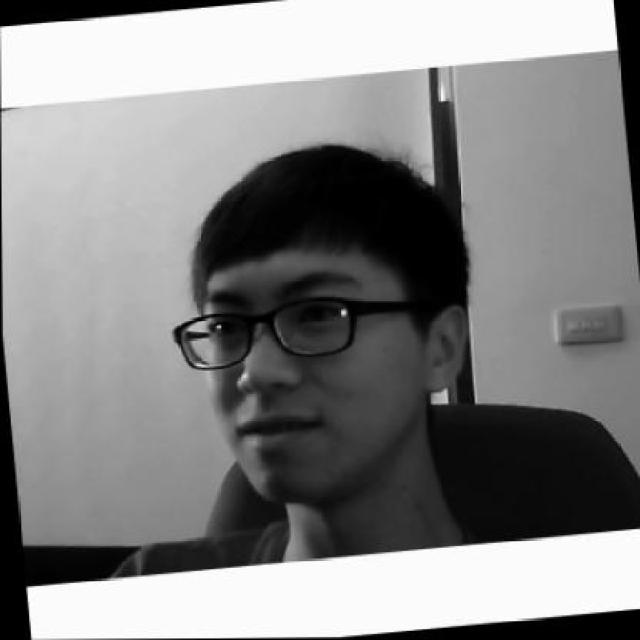attentif: (157, 134, 480, 509)
